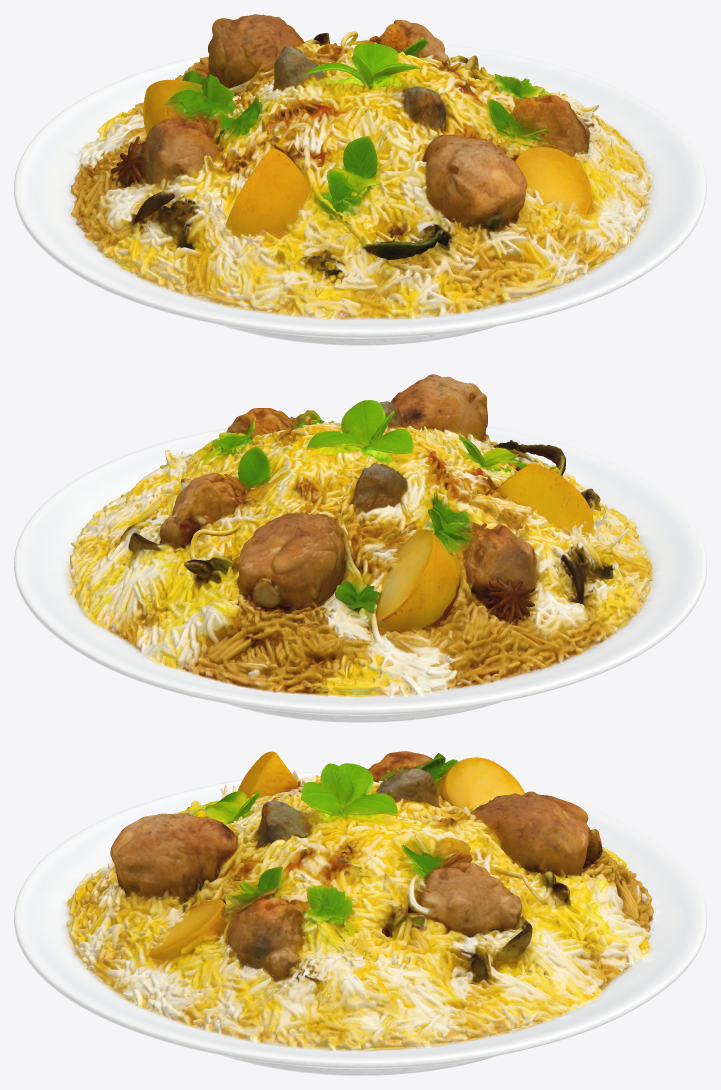
The model's file is Mauritian Chicken Biryani .glb.
The picture shows the model from 3 angles, top to bottom: view 1: azimuth 30°, elevation 25°; view 2: azimuth 150°, elevation 25°; view 3: azimuth 270°, elevation 25°; orthographic projection.
Visible parts, largest first — view 1: Mesh_0; view 2: Mesh_0; view 3: Mesh_0.
Boxes of the visible parts, x1,y1,x2,y2 form: Mesh_0: (14, 14, 706, 345); Mesh_0: (14, 374, 706, 722); Mesh_0: (14, 751, 706, 1075).
Bounding box in the file's own units: 0.1204 × 0.04 × 0.1205.
1 material, 1 textured.
